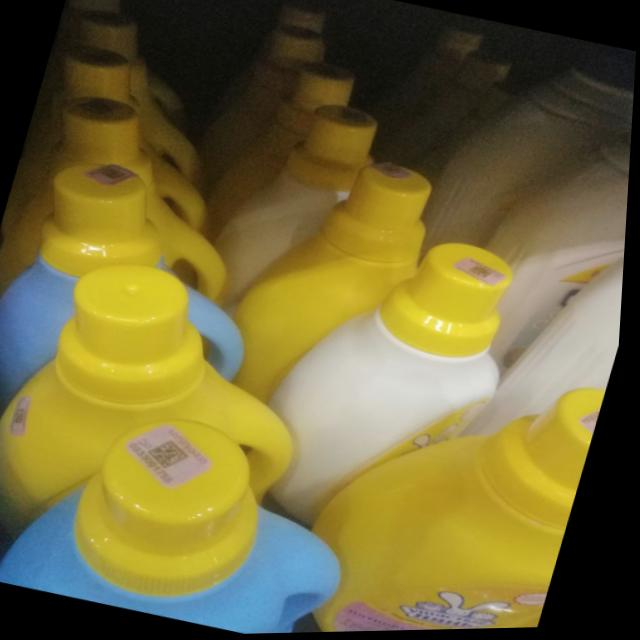datamatrix: (149, 436, 199, 476)
